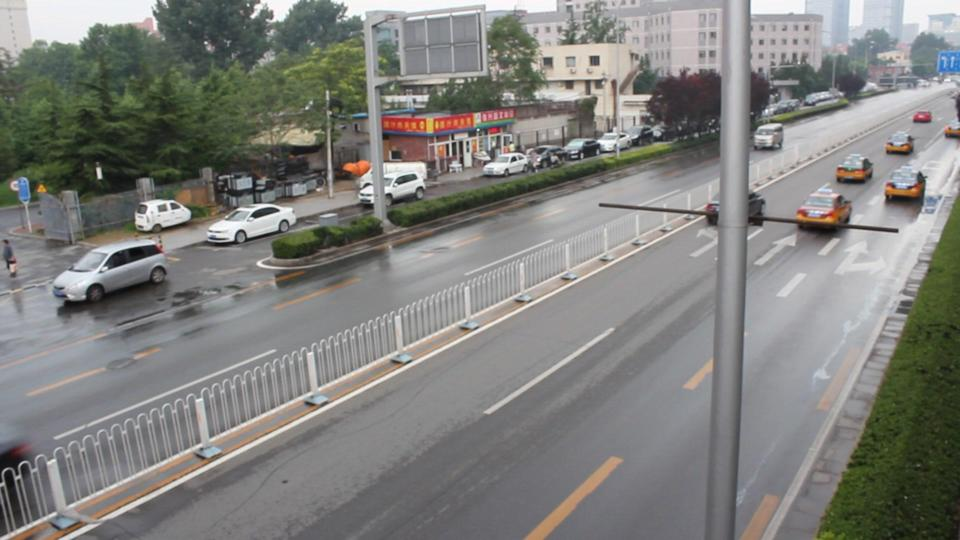Car: (794, 188, 850, 232), (704, 187, 763, 228), (881, 167, 921, 203), (833, 155, 869, 182)
